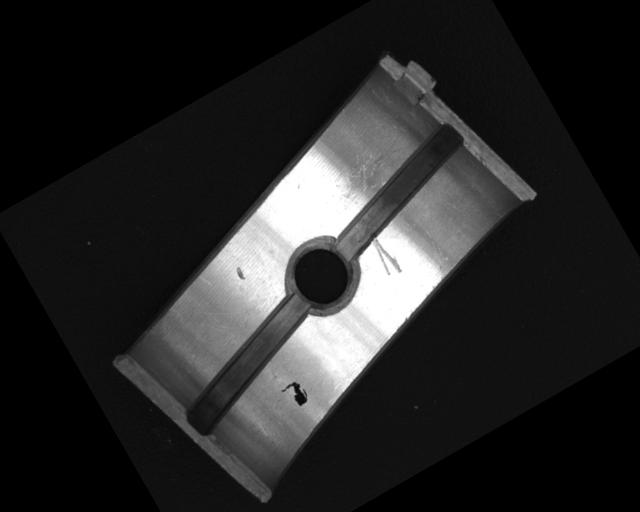blot: (279, 377, 312, 412)
bruise: (233, 264, 248, 283)
gap: (159, 289, 338, 438), (311, 121, 486, 263)
hole: (272, 227, 371, 326)
nick: (367, 232, 404, 279)
scratch: (313, 122, 423, 216)
